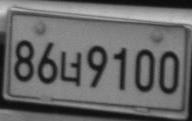0: (158, 49, 180, 94), (134, 47, 155, 92)
1: (110, 46, 132, 91)
6: (36, 41, 58, 84)
8: (13, 39, 35, 82)
9: (85, 44, 108, 88)
너: (60, 50, 82, 87)
